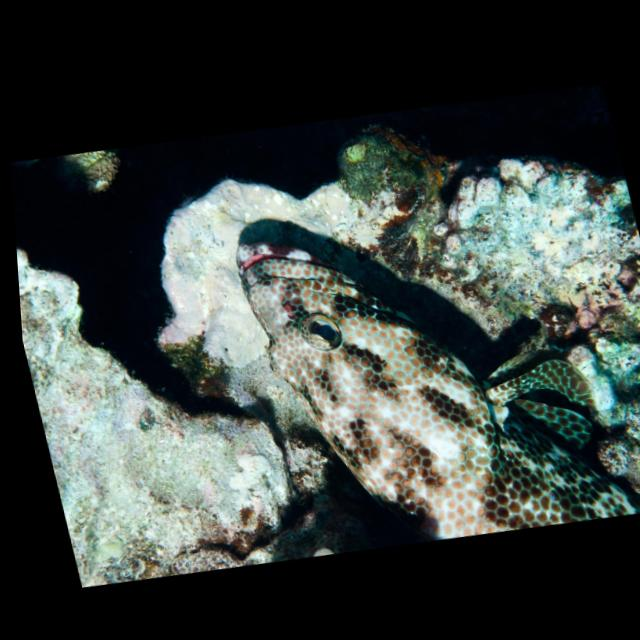Groupers: (222, 168, 640, 572)
